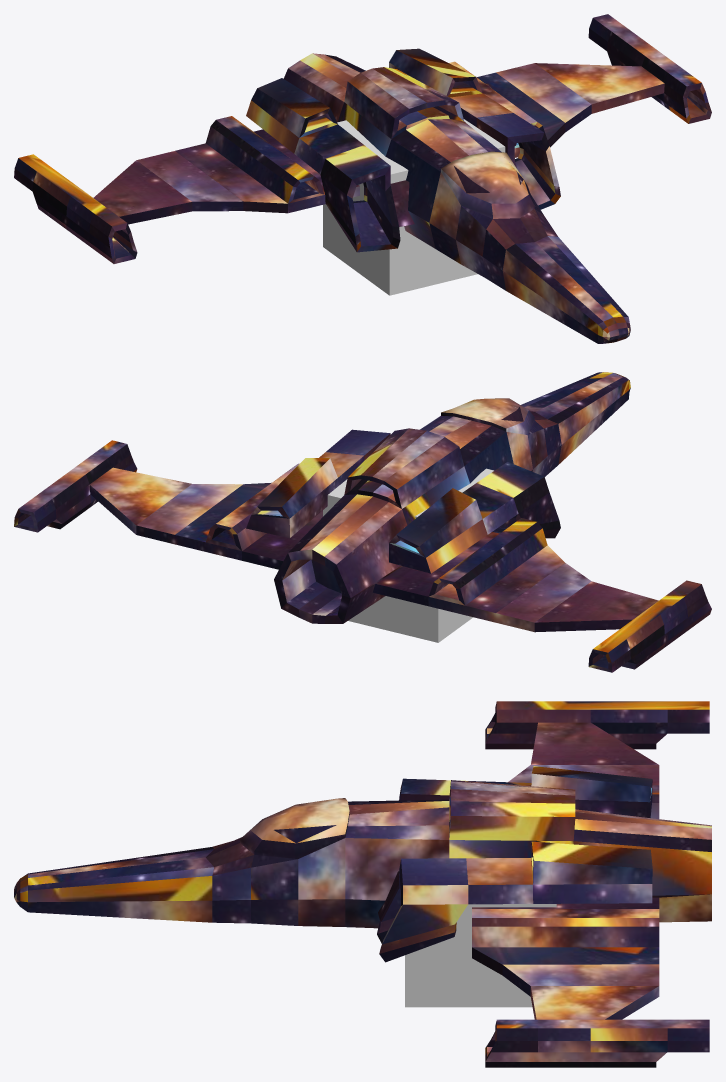
File: ship.glb
3 views of the same model, one above another, from view 1: azimuth 30°, elevation 25°; view 2: azimuth 150°, elevation 25°; view 3: azimuth 270°, elevation 25° (orthographic). The views are drawn at different scales.
Visible parts, largest first — view 1: Spaceship3, Cube; view 2: Spaceship3, Cube; view 3: Spaceship3, Cube.
Part boxes in pixels (left/top/right/bottom): Spaceship3: left=14, top=14, right=711, bottom=343; Cube: left=323, top=119, right=505, bottom=295; Spaceship3: left=14, top=372, right=711, bottom=672; Cube: left=323, top=468, right=493, bottom=642; Spaceship3: left=14, top=701, right=711, bottom=1067; Cube: left=405, top=904, right=556, bottom=1007.
Bounding box in the file's own units: 10.38 × 2.71 × 9.21.
Materials: 2 (1 with a texture image).
